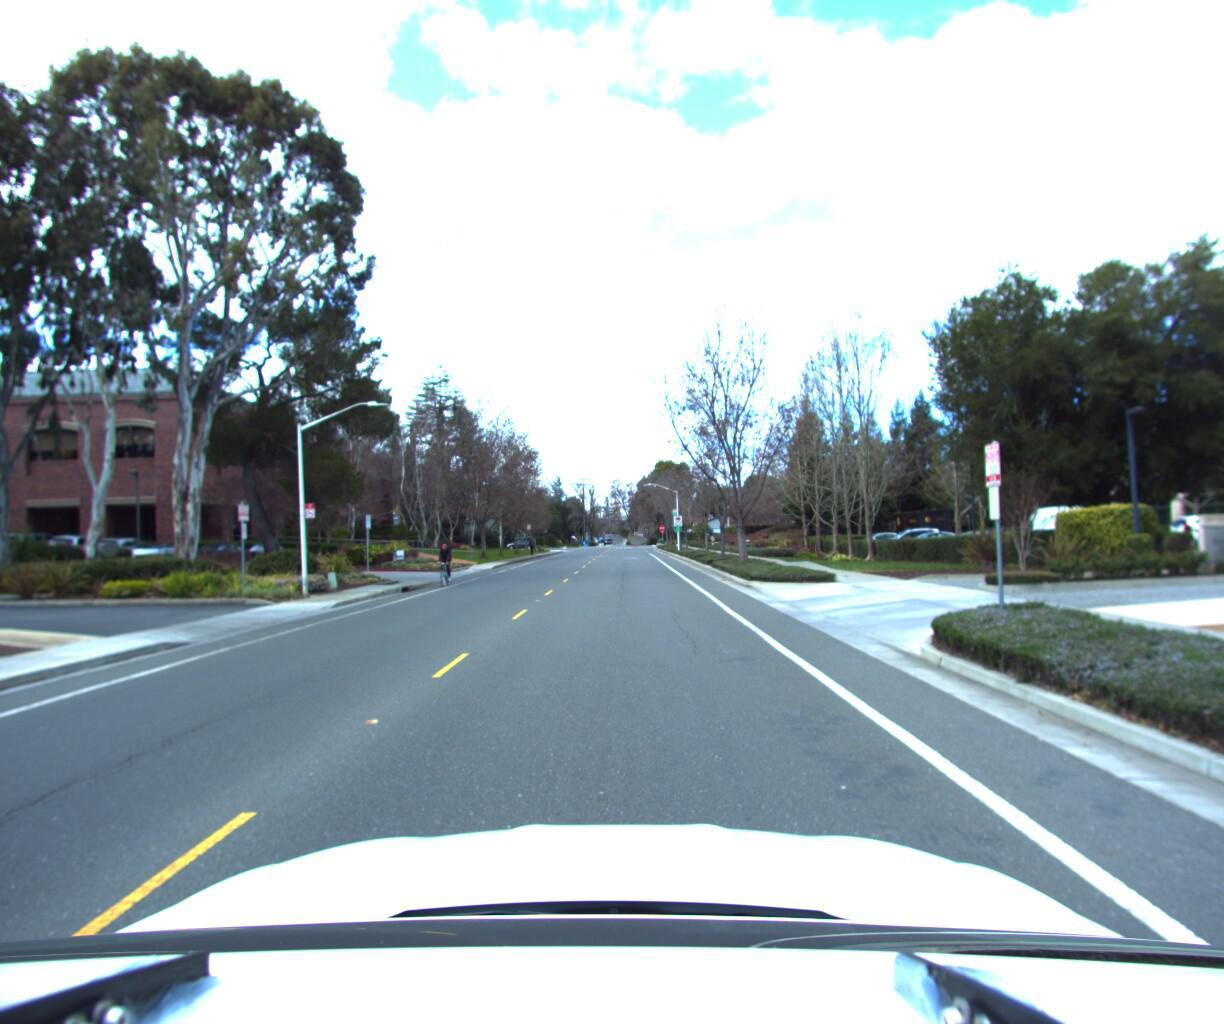bicycle: (429, 535, 463, 588)
